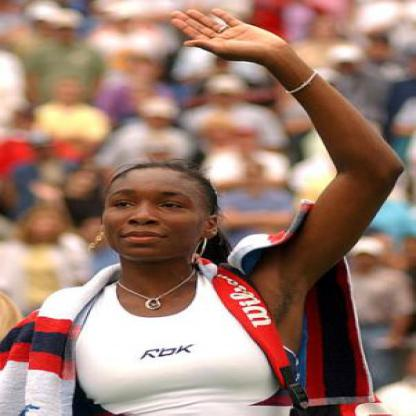face: (99, 163, 211, 264), (27, 211, 63, 243)
